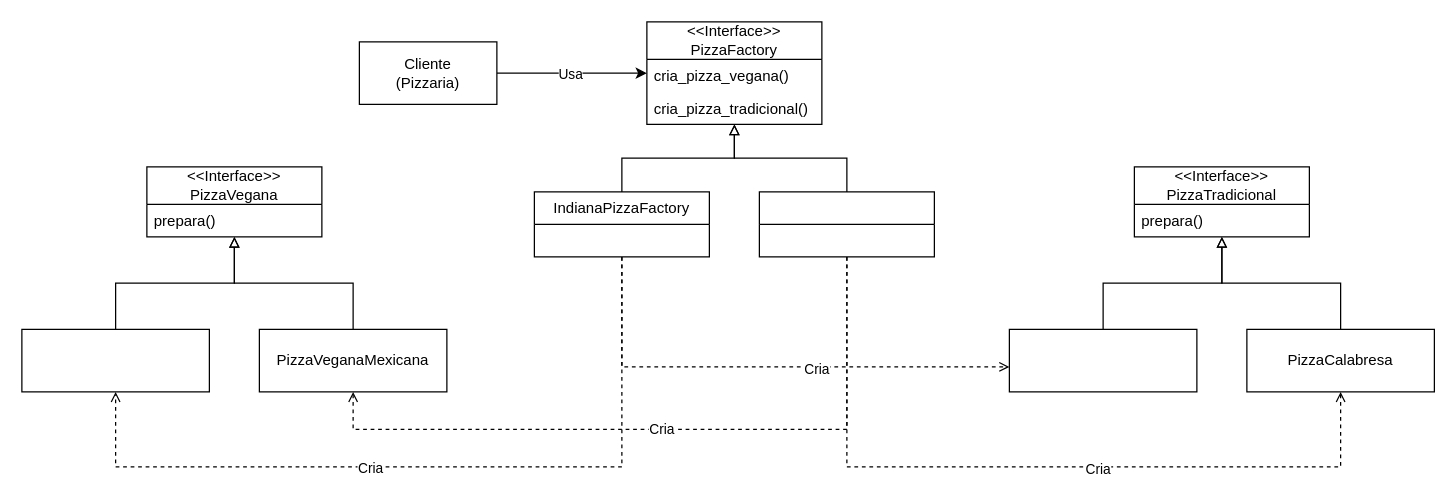
The diagram is 1456 pixels wide and 499 high, and some of its shapes have lost their labels. The centre of each missing label's shape, as x and y in pixels:
"AmericanaPizzaFactory" goes at [846,224].
"PizzaFrango" goes at [1102,360].
"PizzaVeganaLuxuosa" goes at [115,360].
